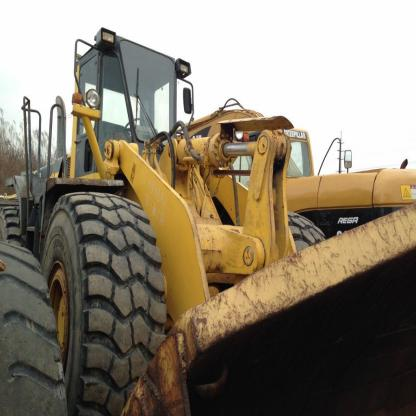bull_dozer/loader/grader: (0, 23, 416, 416)
